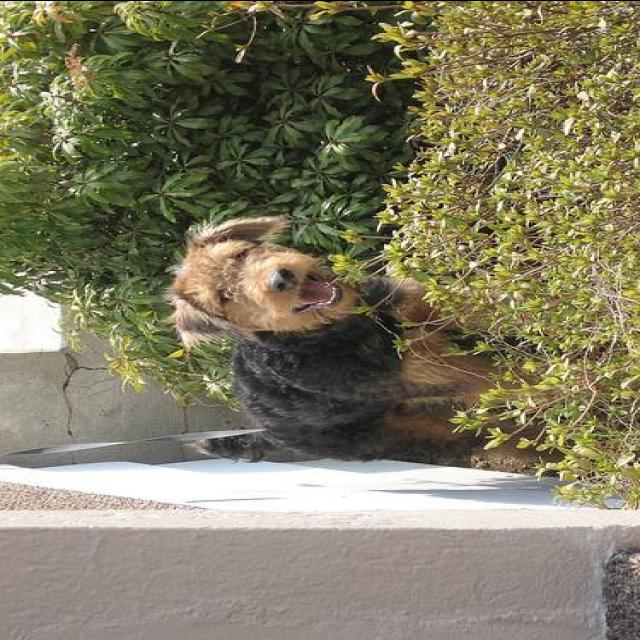airedale: (168, 216, 516, 458)
